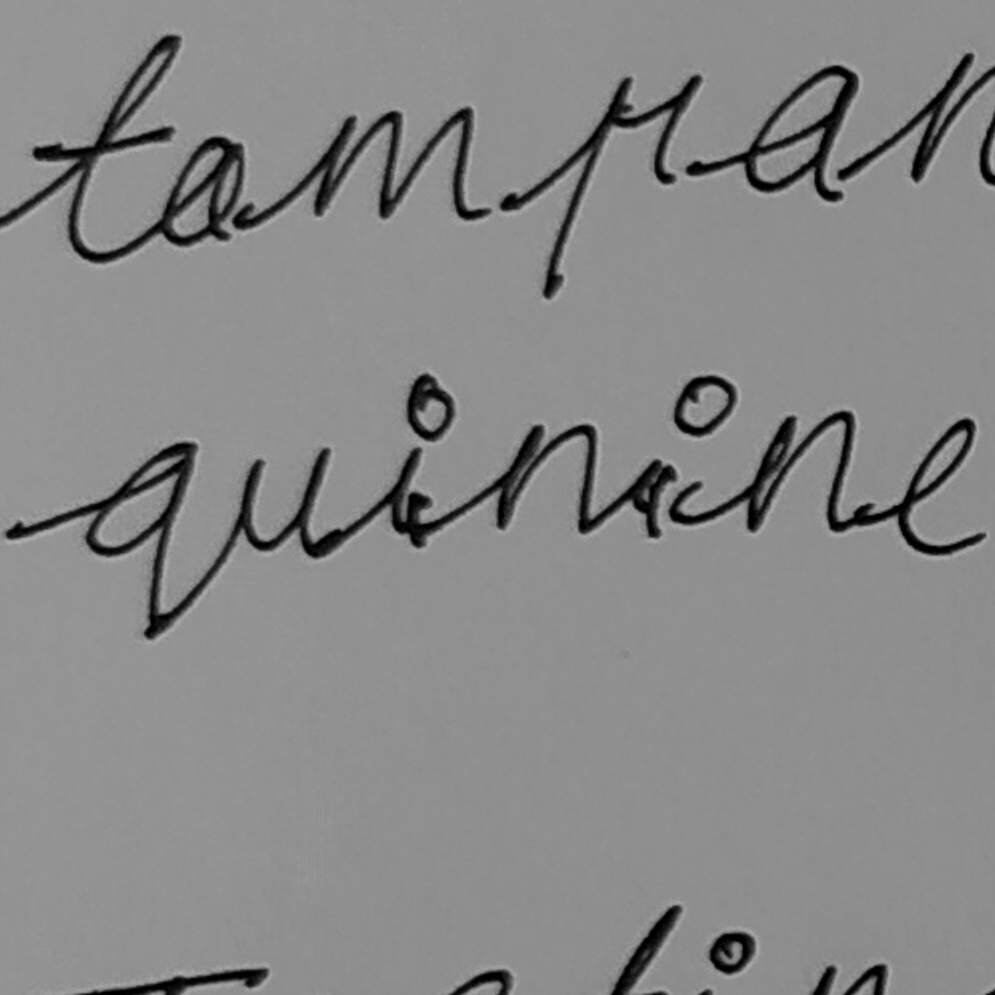e: (890, 414, 990, 561)
i: (625, 370, 742, 546), (381, 369, 461, 548)
n: (744, 401, 864, 540), (492, 415, 606, 537)
q: (79, 431, 204, 649)
u: (236, 437, 338, 561)
